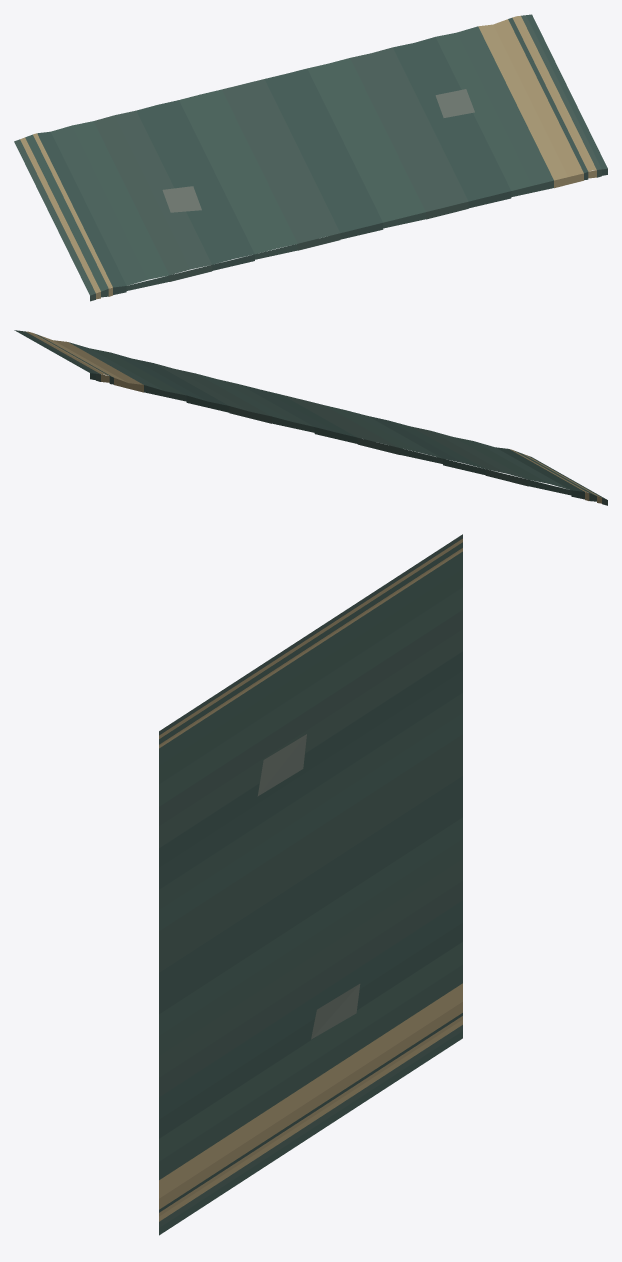
Rendered from awning.glb.
3 views of the same model, one above another, from view 1: azimuth 30°, elevation 25°; view 2: azimuth 150°, elevation 25°; view 3: azimuth 270°, elevation 25° (orthographic). The views are drawn at different scales.
Parts seen in each view (by area): view 1: awning; view 2: awning; view 3: awning.
Part boxes in pixels (<box>): awning: <box>14,14,607,301</box>; awning: <box>14,330,607,505</box>; awning: <box>159,534,462,1235</box>.
Bounding box in the file's own units: 6.06 × 1.2 × 1.54.
